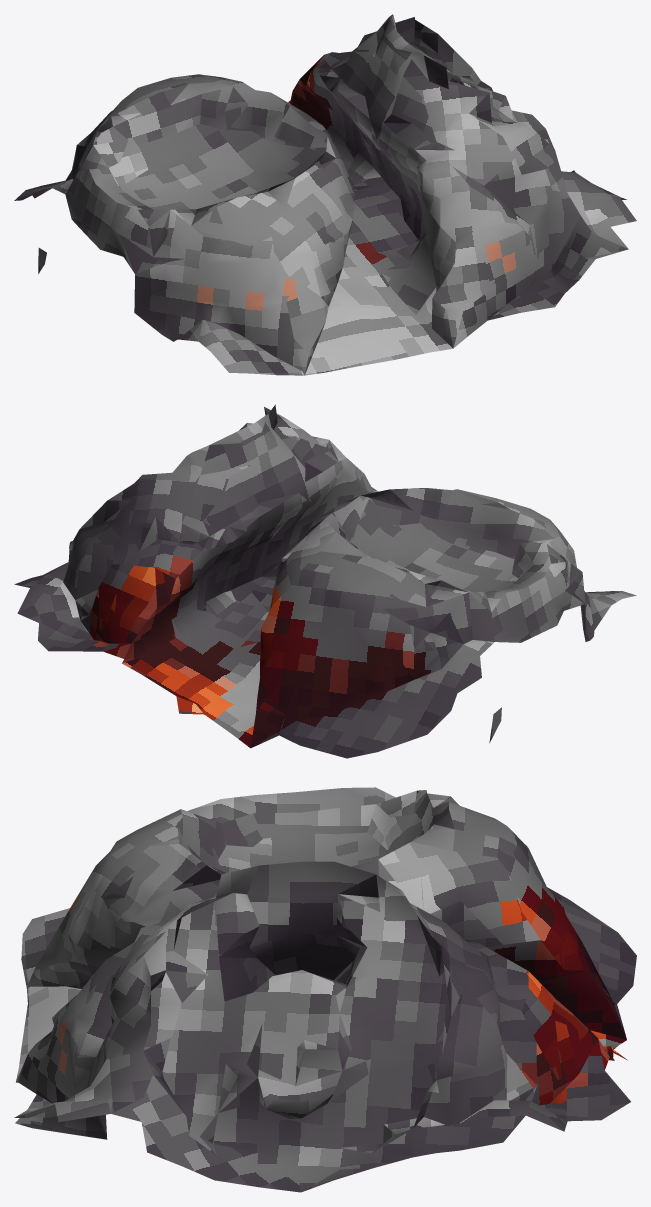
File: litter_can.glb
3 renders of one model, top to bottom at view 1: azimuth 30°, elevation 25°; view 2: azimuth 150°, elevation 25°; view 3: azimuth 270°, elevation 25°, orthographic. The views are drawn at different scales.
Parts seen in each view (by area): view 1: mesh; view 2: mesh; view 3: mesh.
Boxes of the visible parts, left/top/right/bottom form: mesh: left=14, top=14, right=636, bottom=375; mesh: left=14, top=404, right=636, bottom=758; mesh: left=14, top=787, right=636, bottom=1192.
Bounding box in the file's own units: 0.1318 × 0.056 × 0.1202.
Materials: 1 (1 with a texture image).
